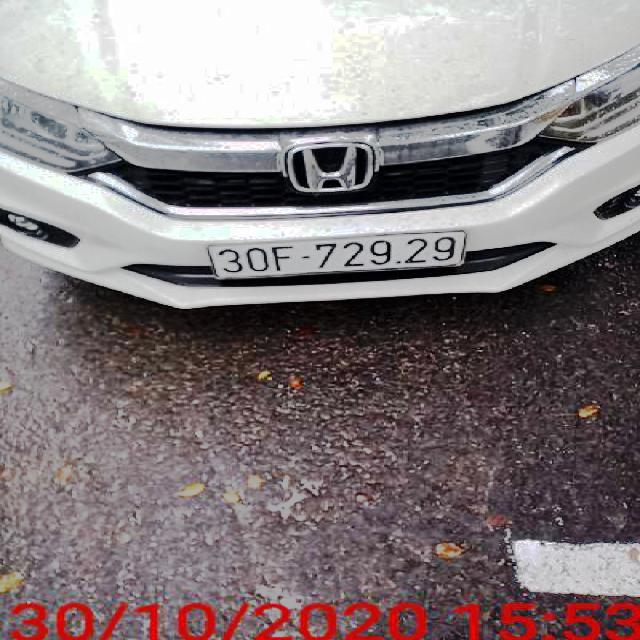license_plate: (212, 231, 467, 279)
